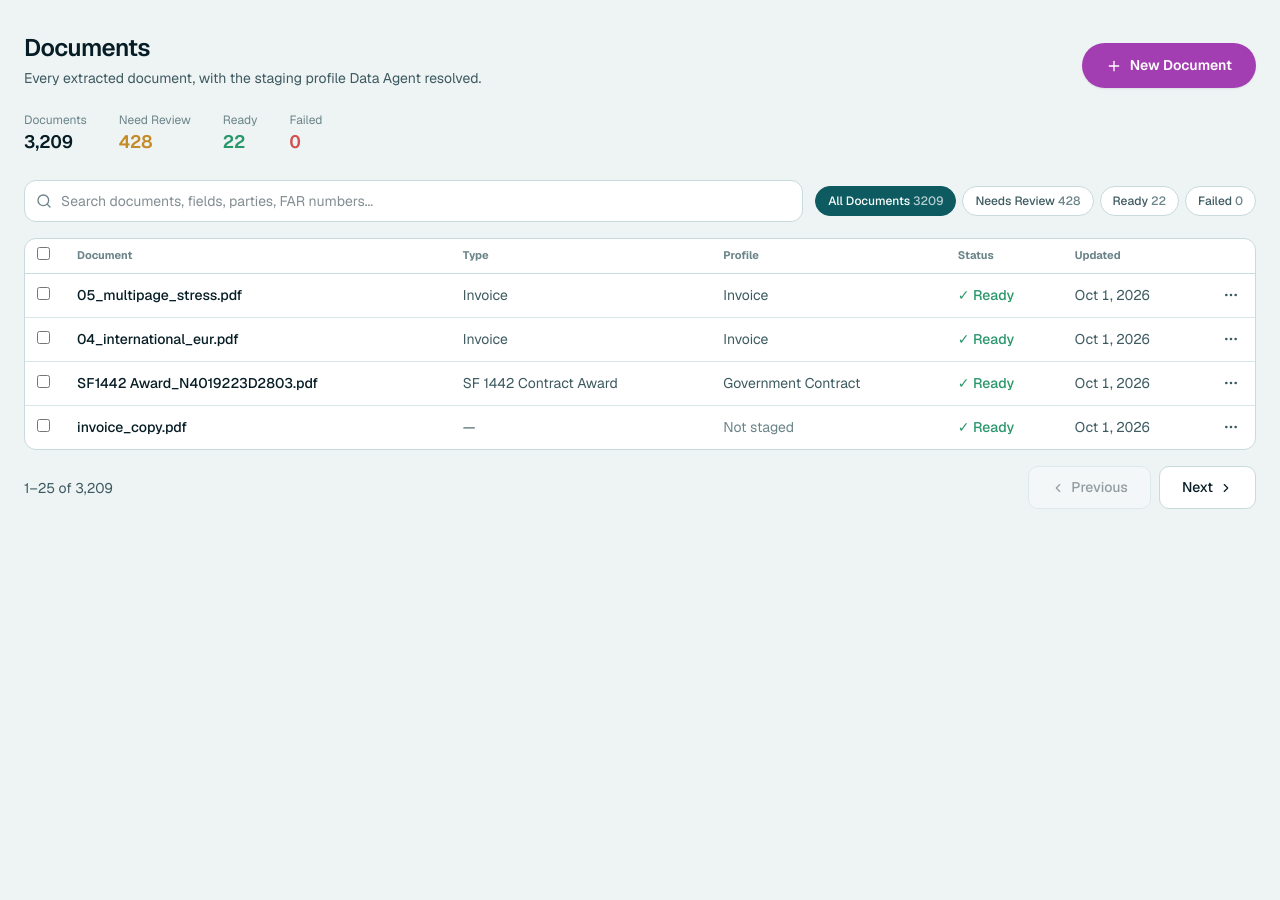
Test: Documents table › deletes a multi-selection behind the same confirmation
Expected: the text "05_multipage_stress.pdf" is shown, [65, 273, 451, 317]
Click the checkbox named "Select 05_multipage_stress.pdf": click(44, 294) [37, 287, 50, 300]
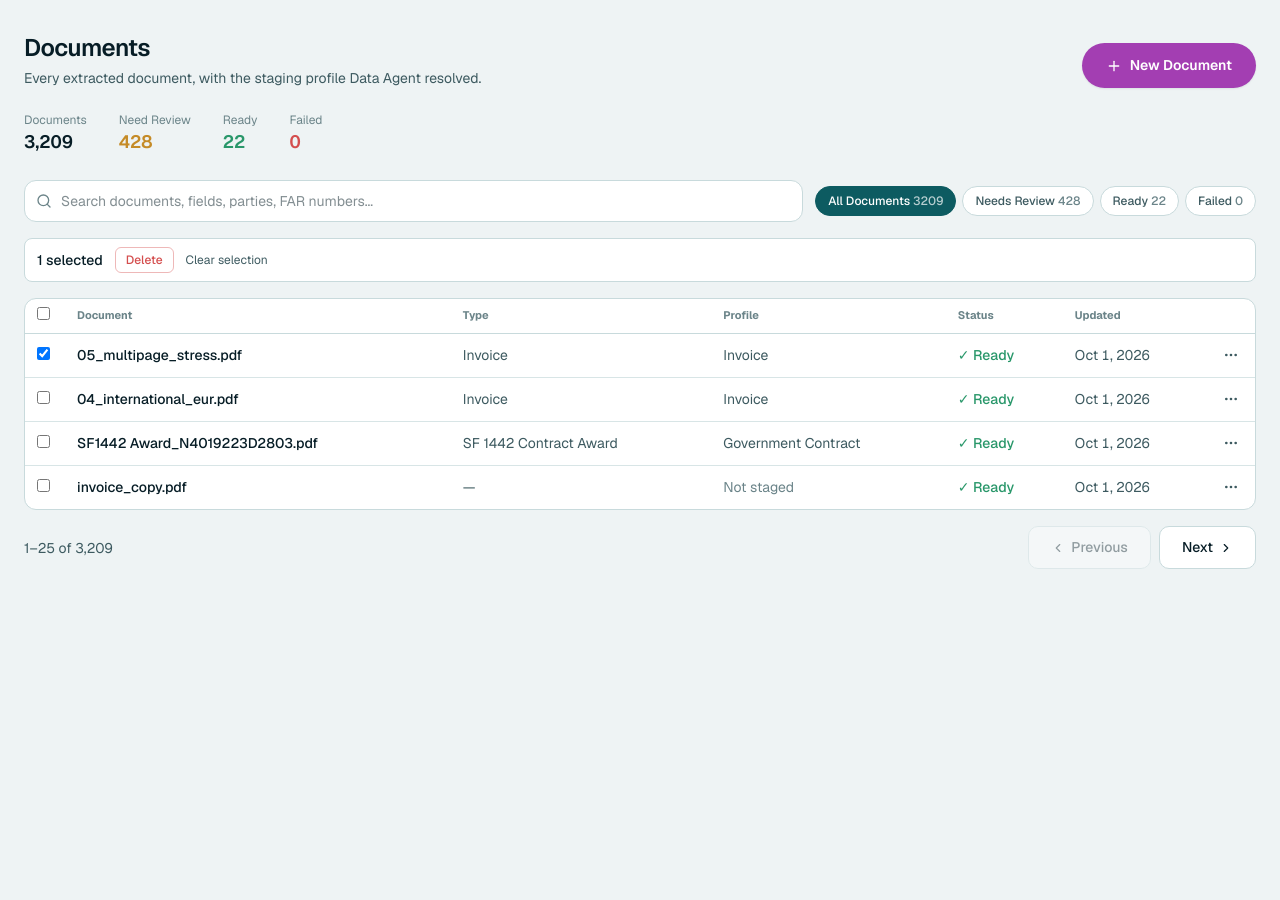
Click the checkbox named "Select 04_international_eur.pdf": click(44, 398) [37, 391, 50, 404]
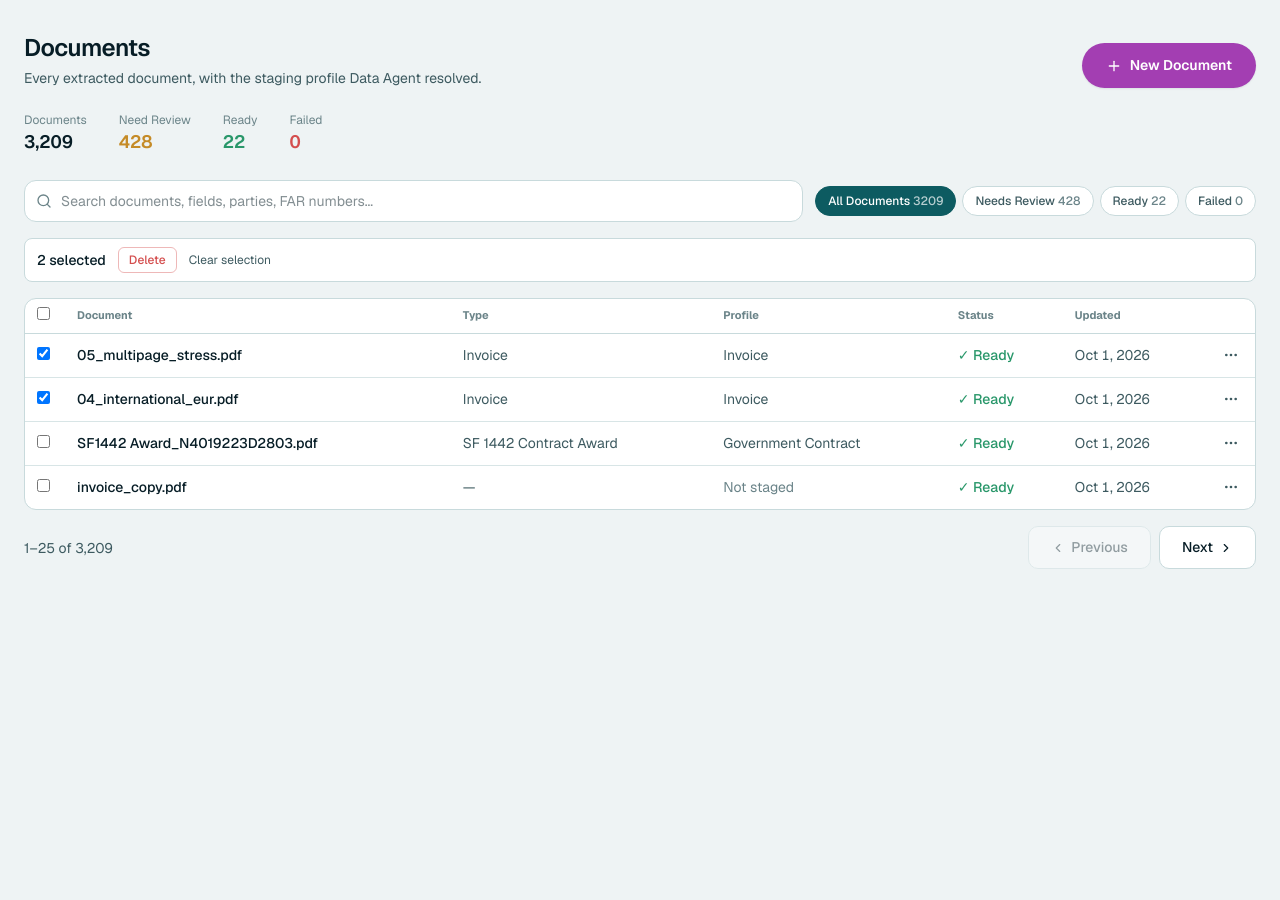
Expected: the text "2 selected" is shown, [37, 250, 106, 270]
Click the button "Delete": click(147, 260) [118, 247, 177, 273]
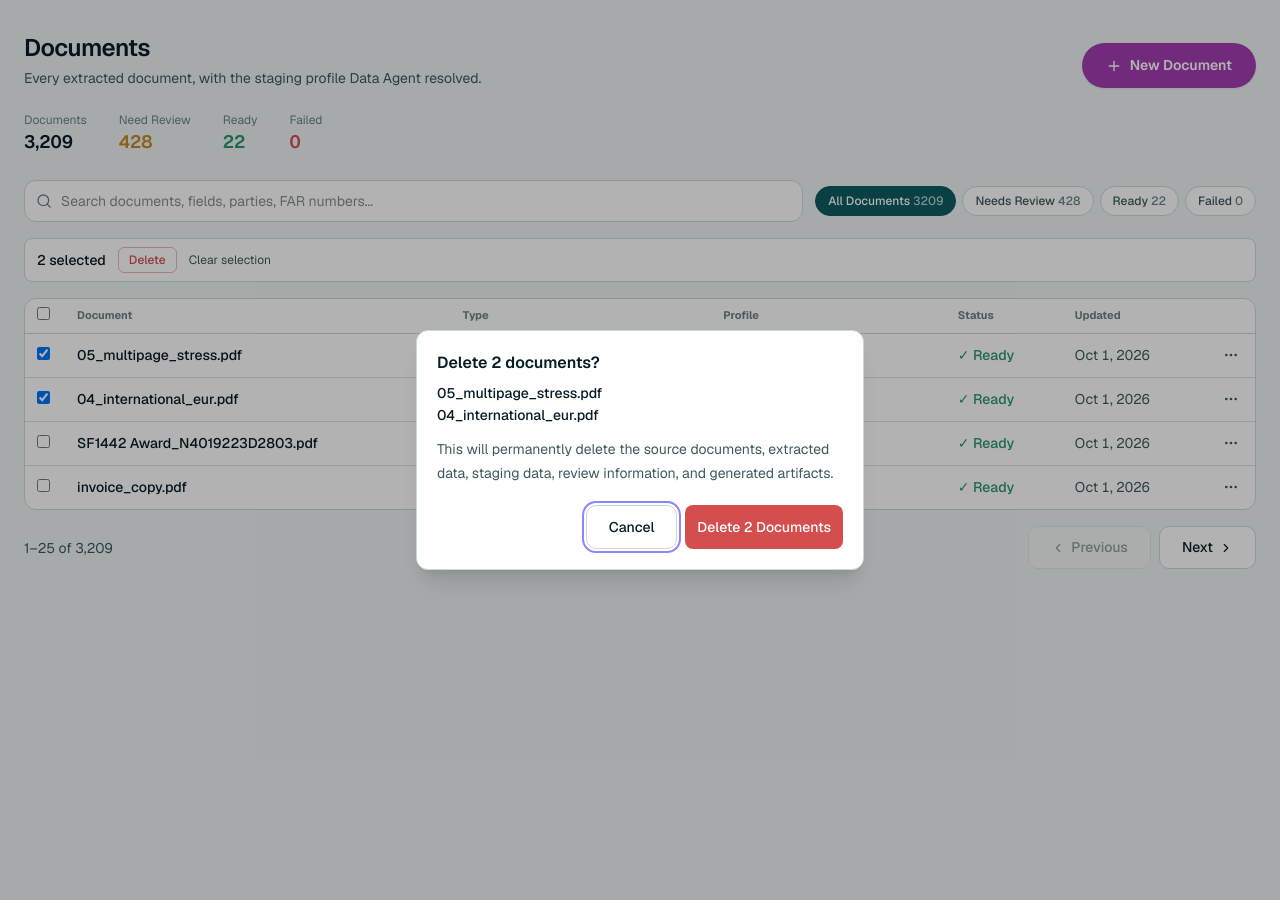
Click the button "Delete 2 Documents": click(764, 527) [685, 505, 843, 549]
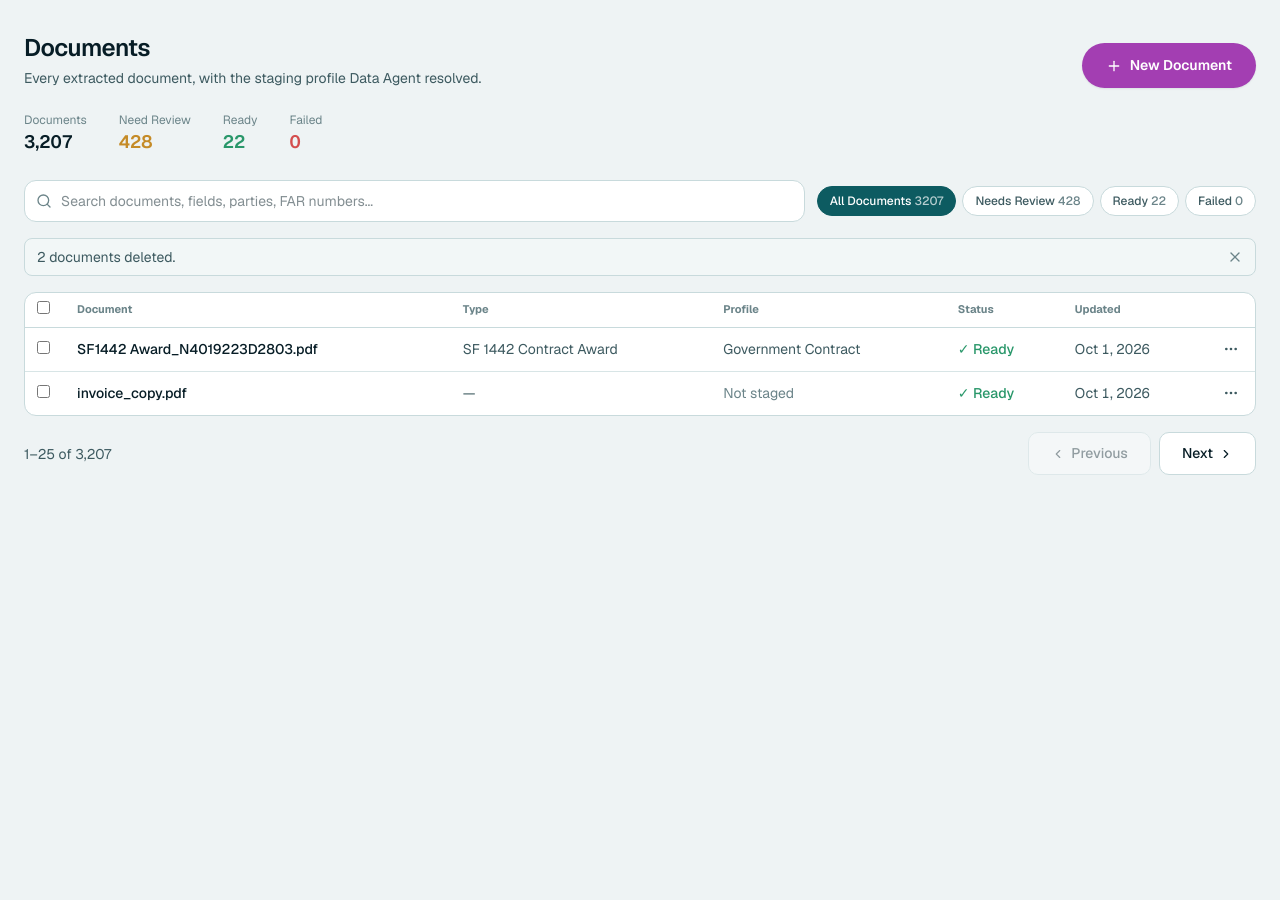
Expected: the text "04_international_eur.pdf" is gone
Expected: the button "selection" is gone
